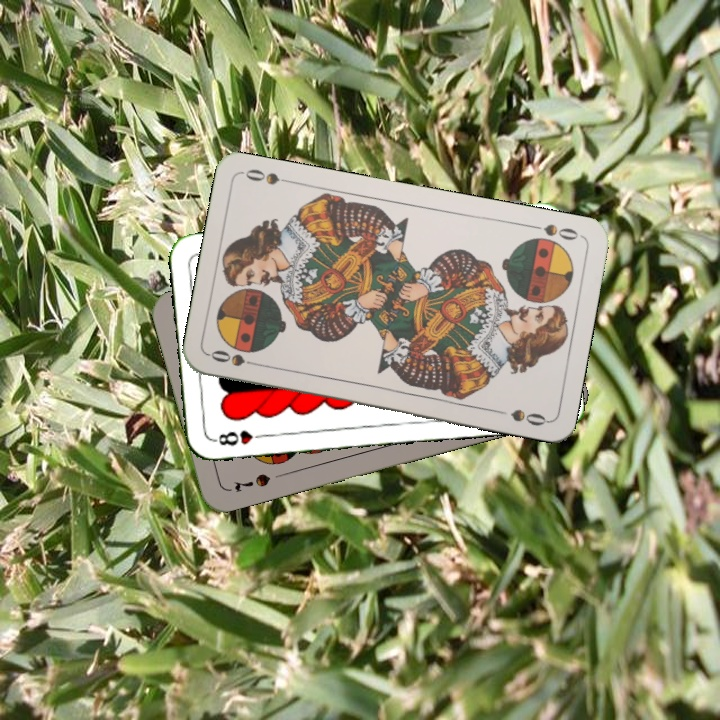H8: (210, 426, 269, 449)
S7: (230, 469, 273, 496)
SO: (206, 346, 265, 370), (525, 220, 584, 243)
